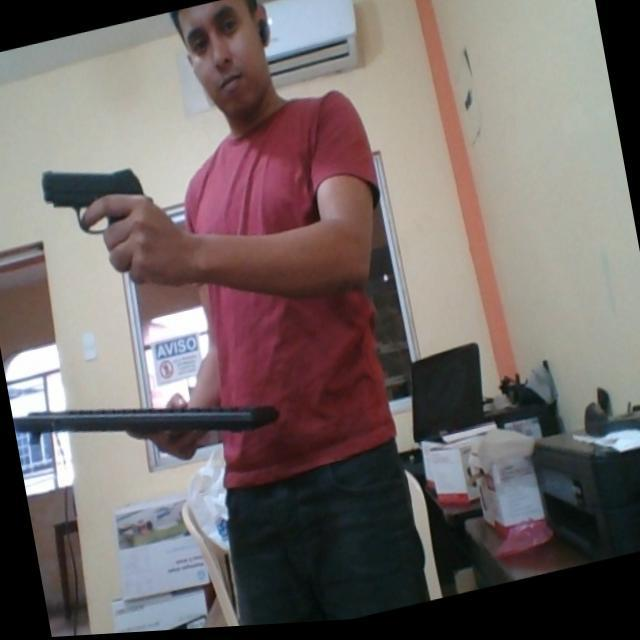weapon: (34, 148, 152, 254)
